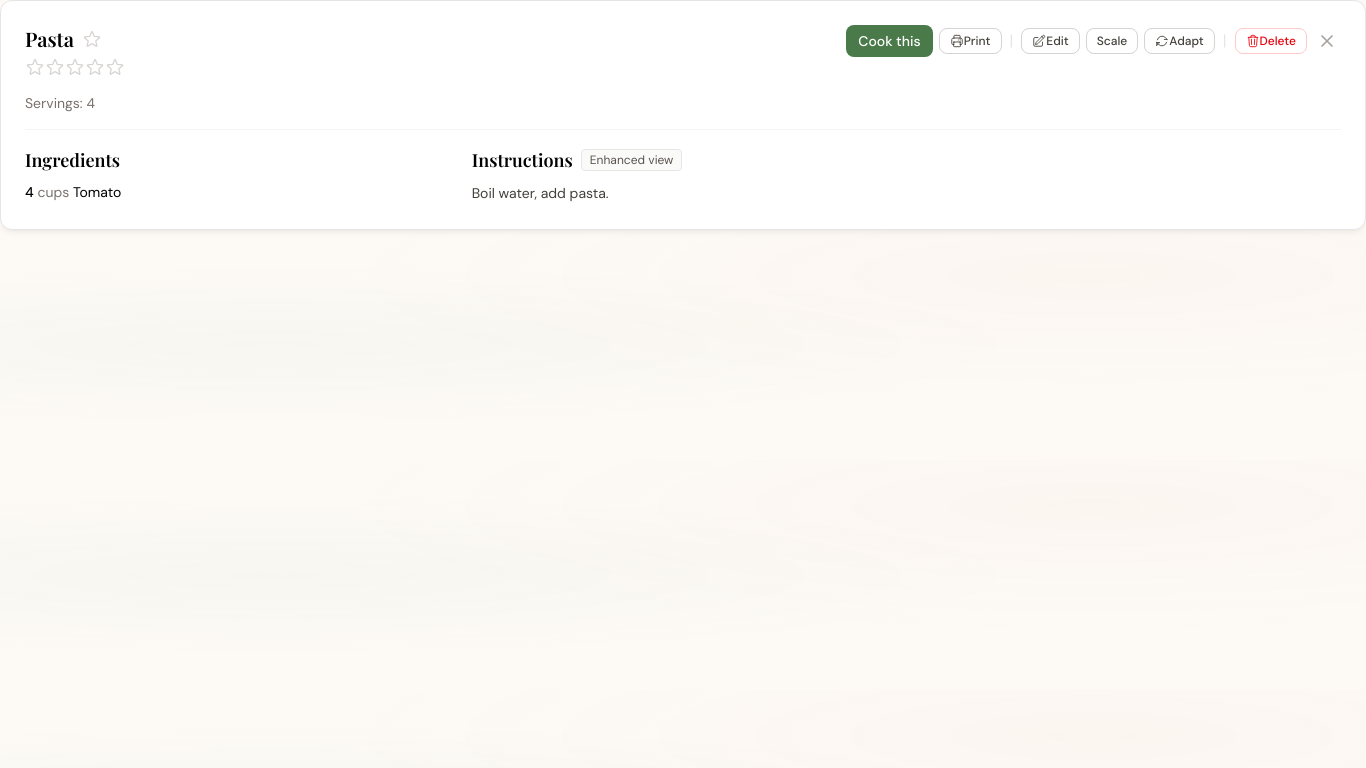
Test case: RecipeDetail enhanced-view failure handling › swaps in enhanced text only on success
The width and height of the screenshot is (1366, 768).
Check: the text "Boil water, add pasta." is shown, box x1=472 y1=184 x2=609 y2=202
Click the button "Enhanced view".
click(632, 160)  # box x1=581 y1=149 x2=682 y2=171
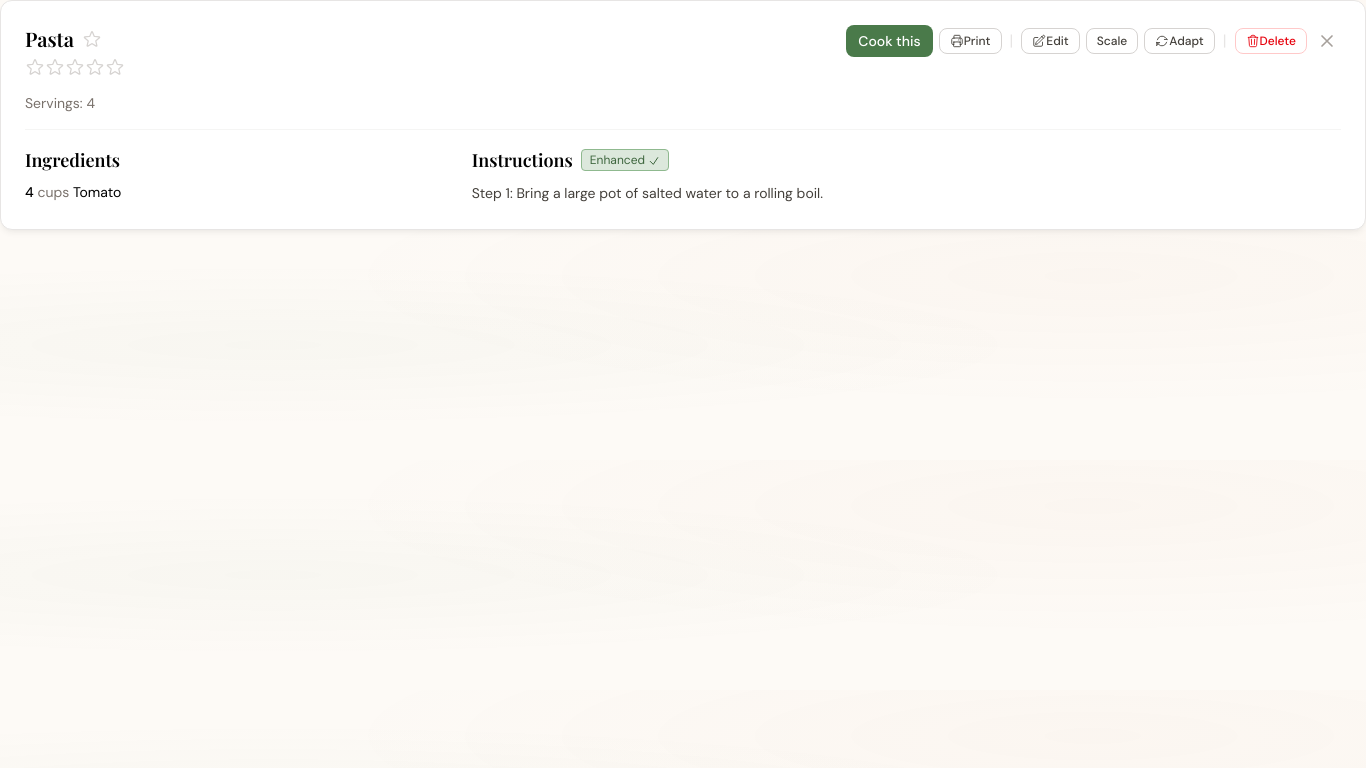
Check: the text "Step 1: Bring a large pot of salted water to a rolling boil." is shown, box x1=472 y1=184 x2=823 y2=202
Check: the text "Boil water, add pasta." is gone
Check: the button "Enhanced" is shown, box x1=581 y1=149 x2=669 y2=171
